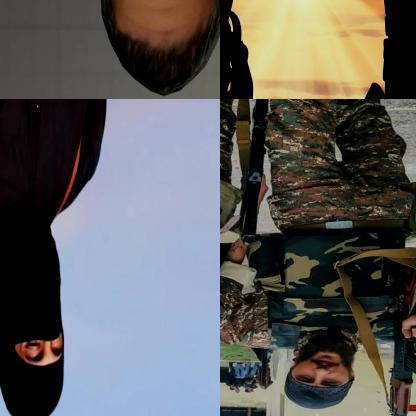rifle: (220, 99, 277, 251), (373, 307, 415, 415)
